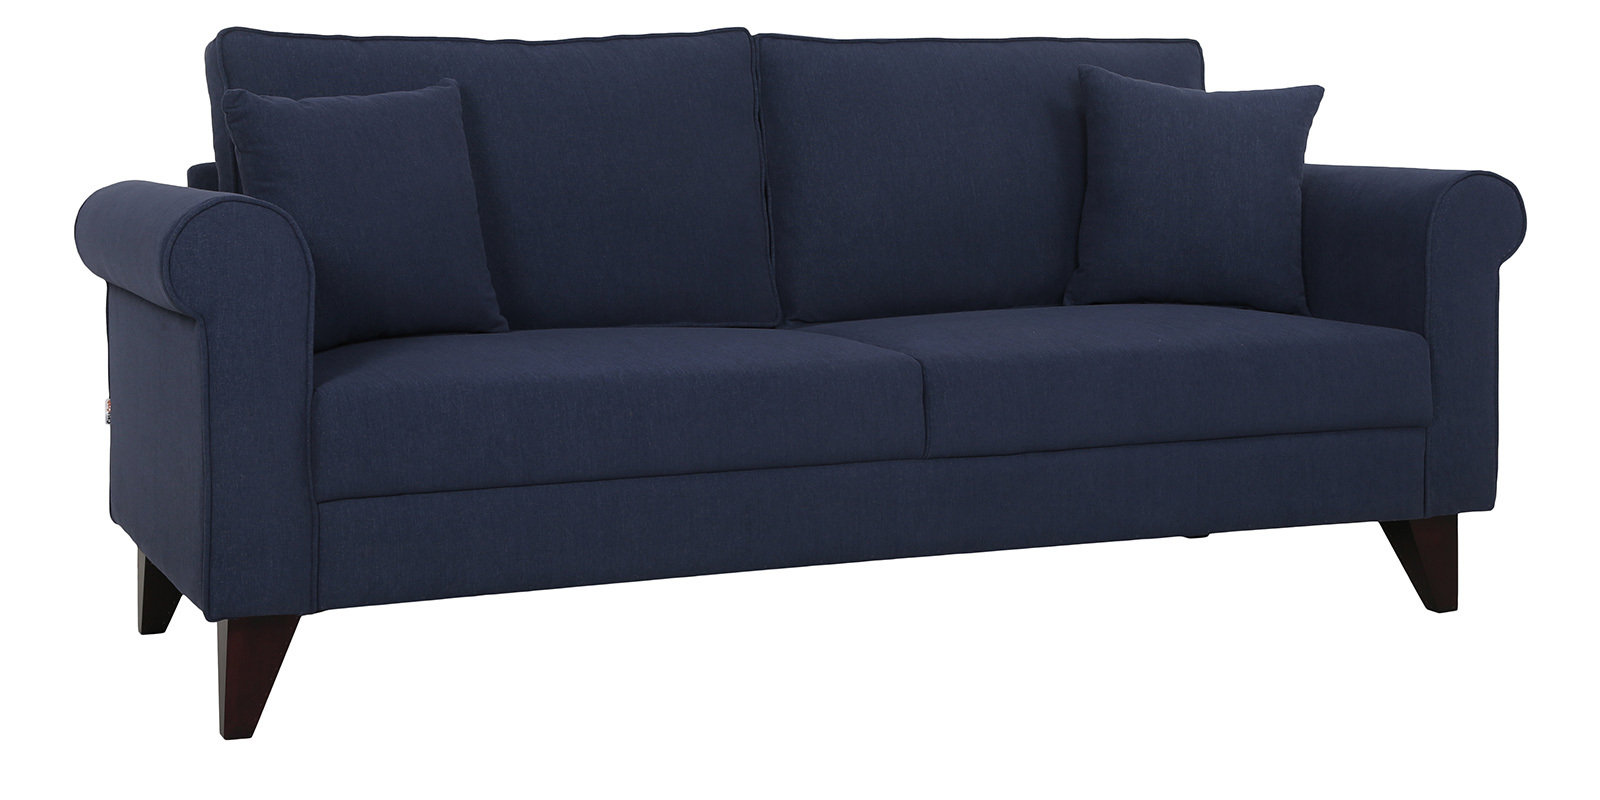Fuego Three Seater Sofa in Navy Blue Colour by CasaCraft: (73, 19, 1550, 756)
